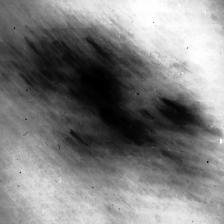Benign Marking or Mole: (26, 22, 210, 176)
